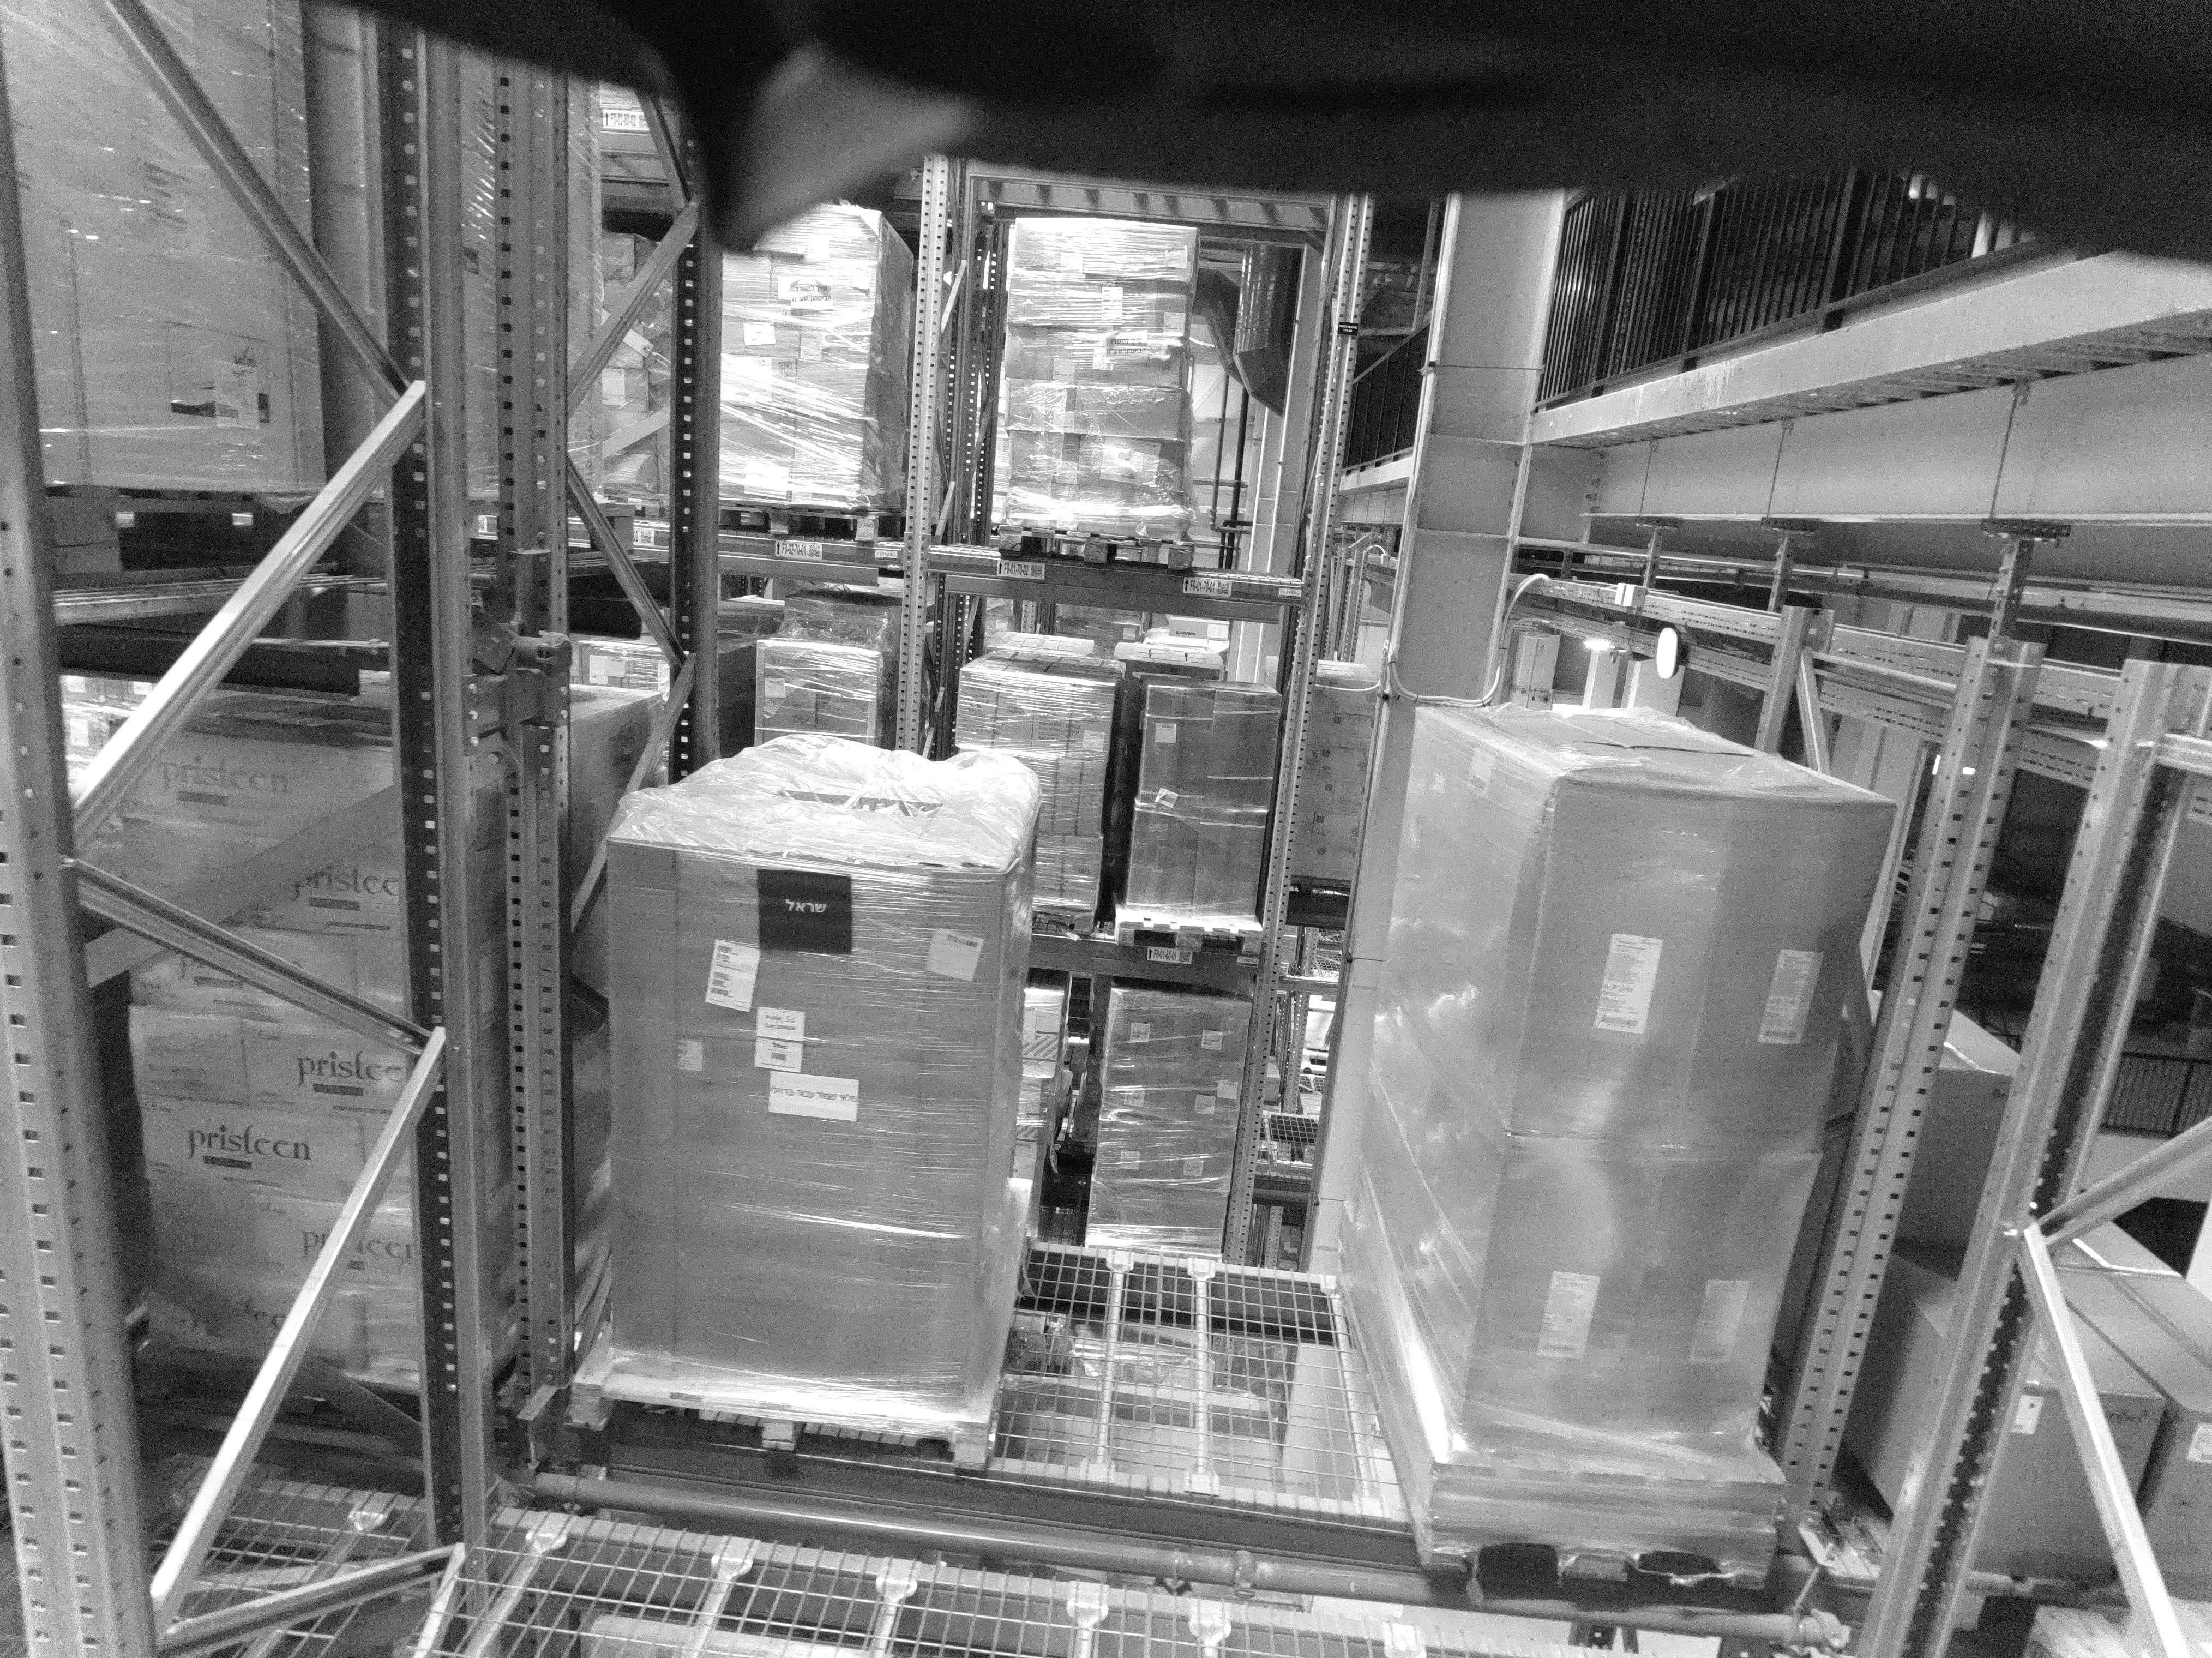empty-shelf: (1083, 785, 1341, 1470)
